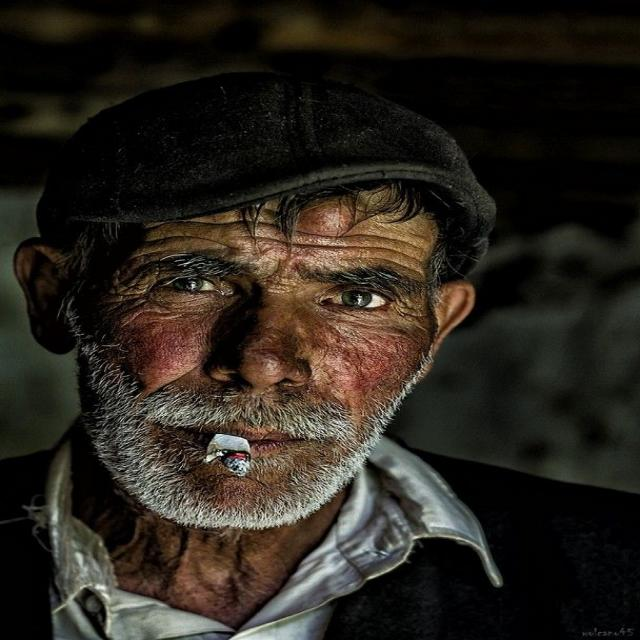earlobe: (12, 236, 76, 356), (414, 279, 476, 381)
